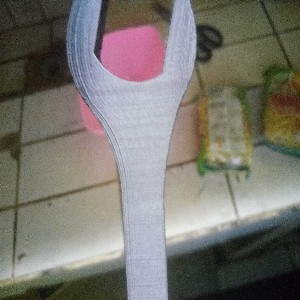spanner: (64, 1, 198, 300)
